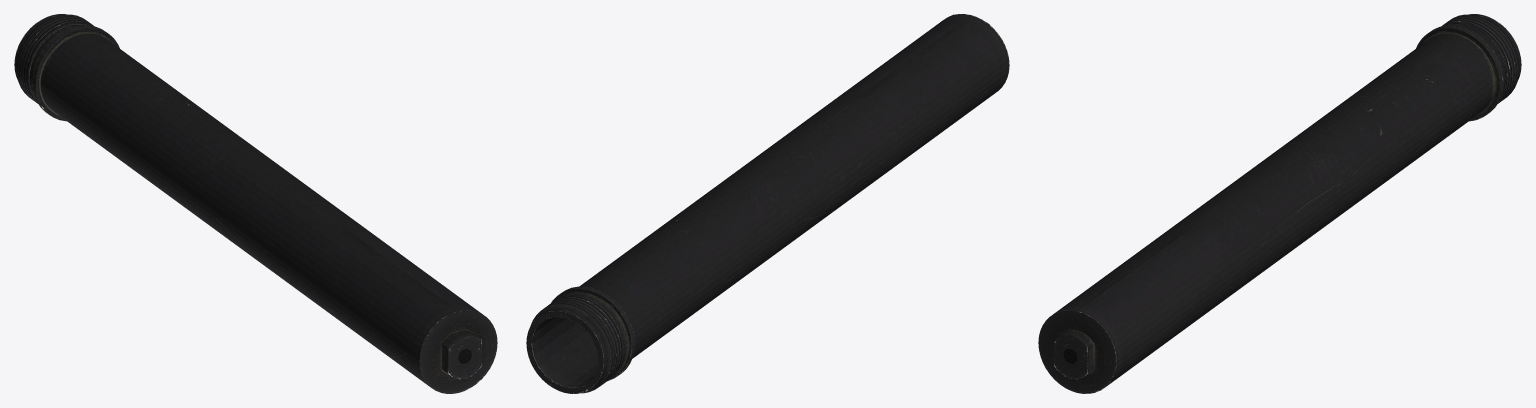
3 renders of one model, left to right at view 1: azimuth 30°, elevation 25°; view 2: azimuth 150°, elevation 25°; view 3: azimuth 330°, elevation 25°, orthographic.
Parts seen in each view (by area): view 1: TW_5a33ca0fc4a282000d72292f_PZ_Import; view 2: TW_5a33ca0fc4a282000d72292f_PZ_Import; view 3: TW_5a33ca0fc4a282000d72292f_PZ_Import.
Part boxes in pixels (left/top/right/bottom): TW_5a33ca0fc4a282000d72292f_PZ_Import: left=14, top=14, right=497, bottom=393; TW_5a33ca0fc4a282000d72292f_PZ_Import: left=526, top=14, right=1009, bottom=393; TW_5a33ca0fc4a282000d72292f_PZ_Import: left=1038, top=14, right=1521, bottom=393.
Size of the model in its own units: 0.018 by 0.1471 by 0.018.
Materials: 1 (1 with a texture image).
